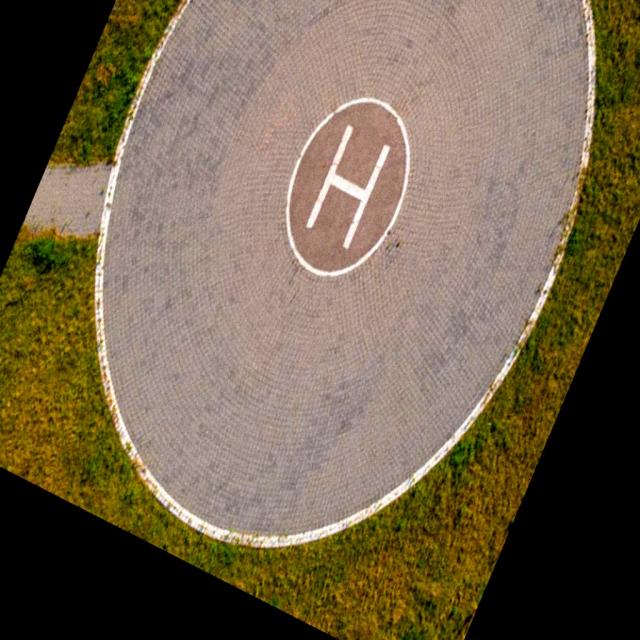helipad: (281, 92, 412, 279)
